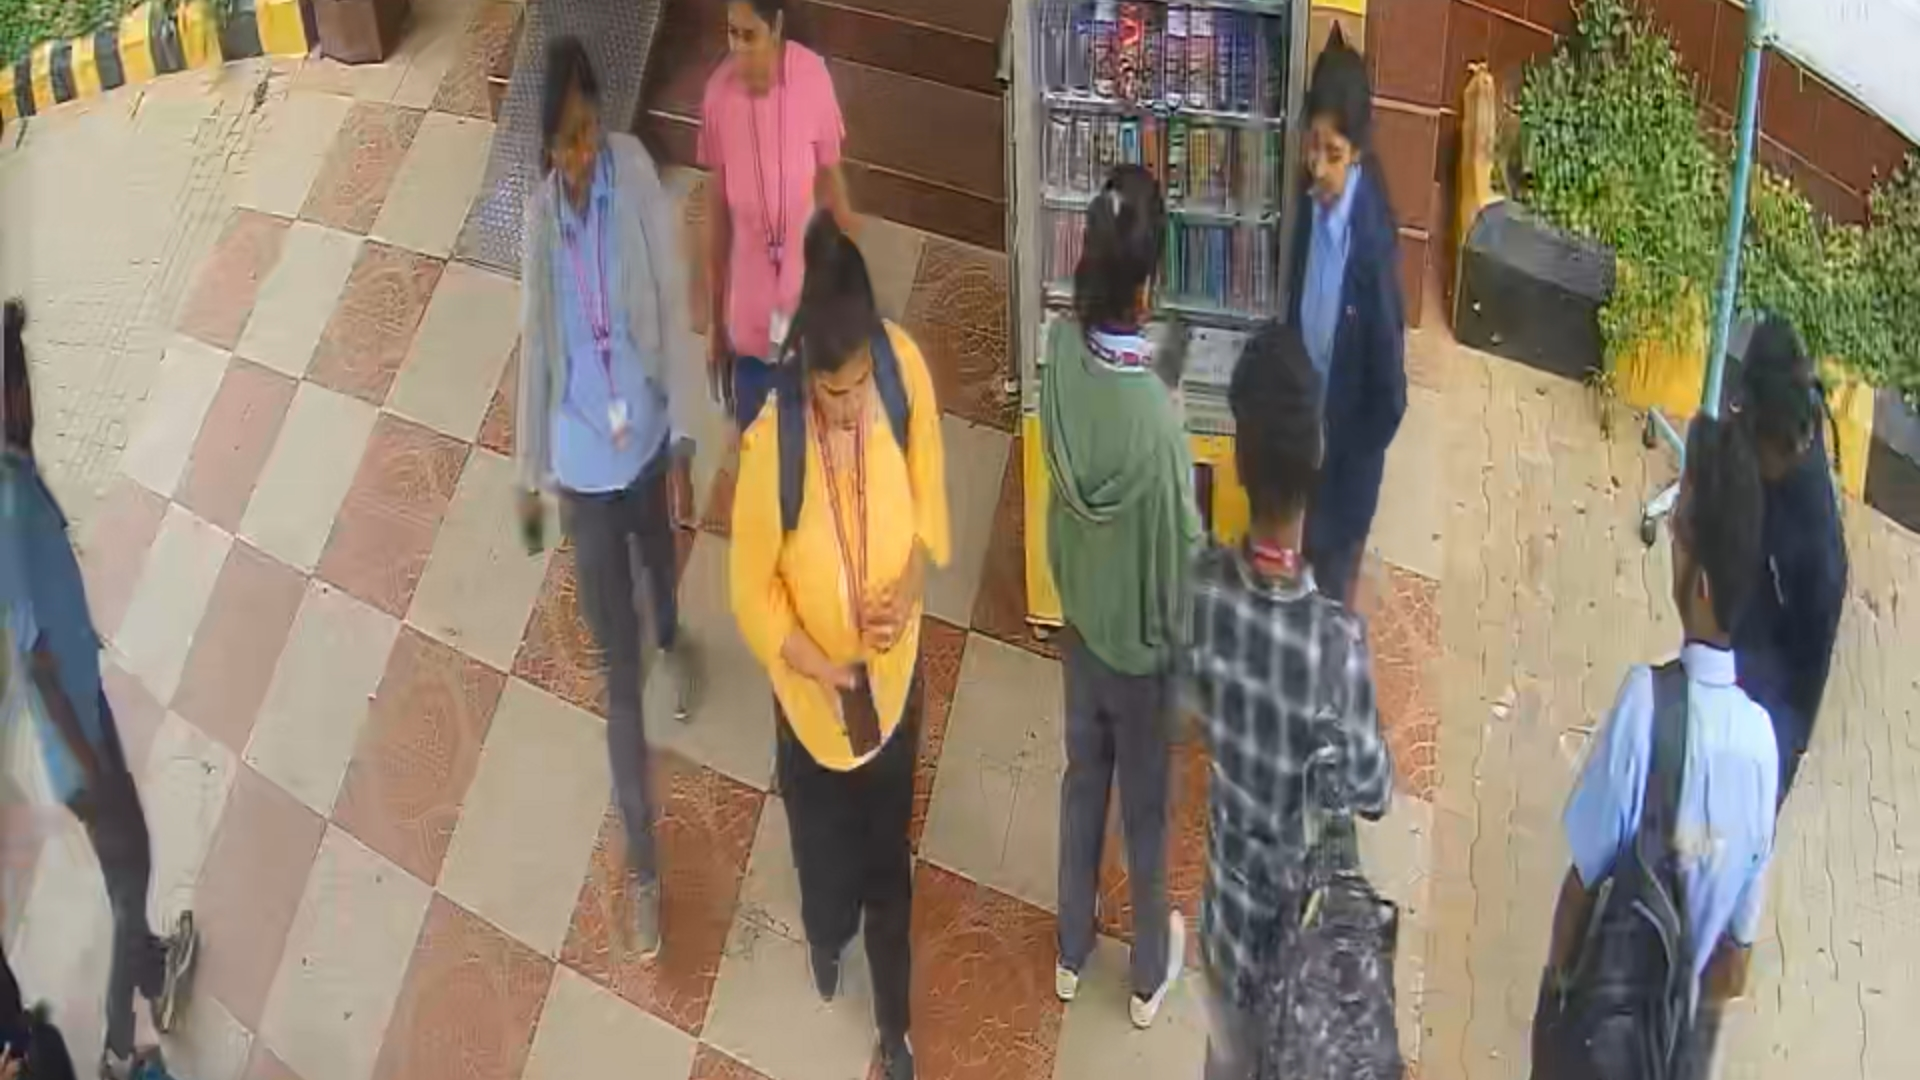not intruder: (513, 45, 733, 895), (744, 241, 952, 1077), (728, 1, 843, 338)
